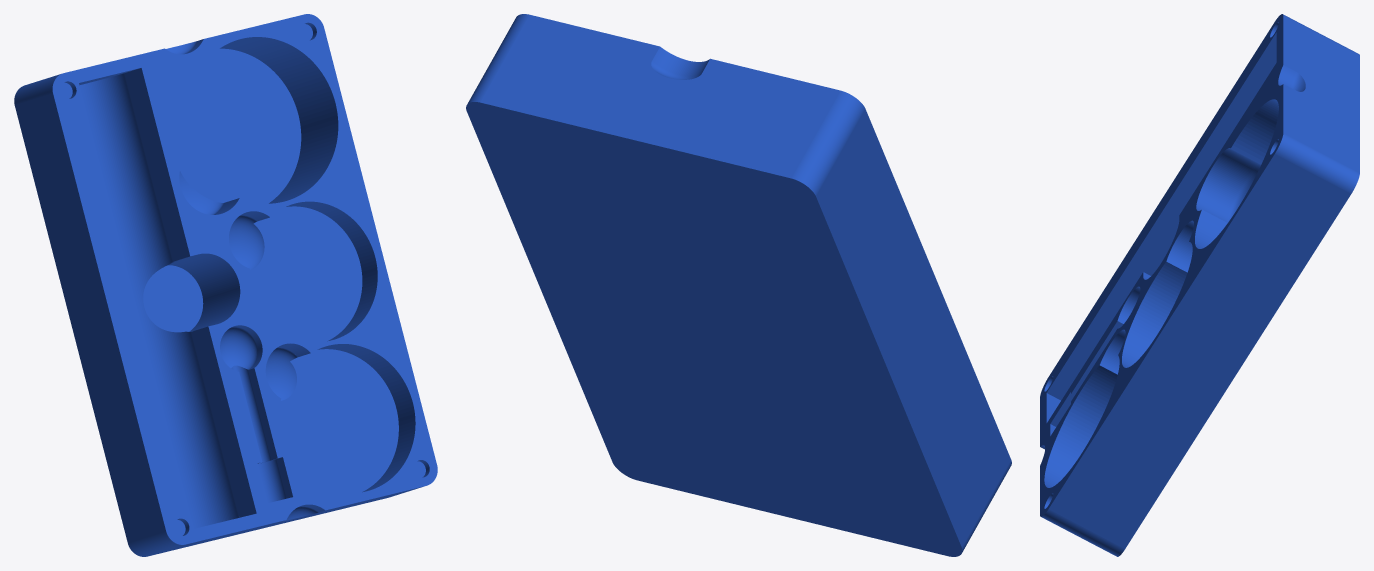
The model's file is SolderBox.glb.
3 renders of one model, left to right at view 1: azimuth 30°, elevation 25°; view 2: azimuth 150°, elevation 25°; view 3: azimuth 270°, elevation 25°, orthographic. The views are drawn at different scales.
Parts seen in each view (by area): view 1: empty_2; view 2: empty_2; view 3: empty_2.
Part boxes in pixels (<box>): empty_2: <box>14,14,437,556</box>; empty_2: <box>466,14,1011,556</box>; empty_2: <box>1040,14,1359,556</box>.
Size of the model in its own units: 1.59 by 2.37 by 1.63.
